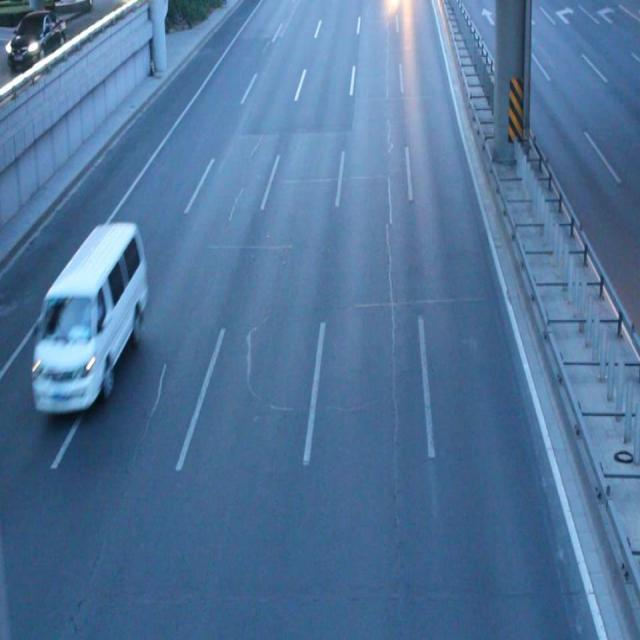truck: (31, 226, 148, 427)
